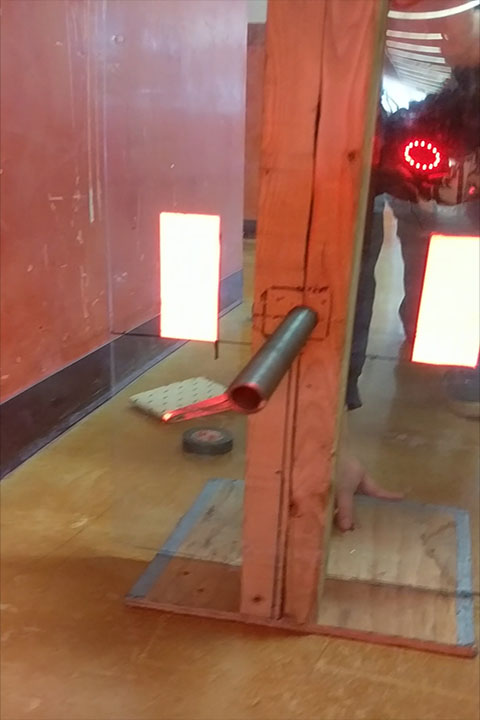gear: (409, 232, 480, 368), (160, 211, 220, 344)
